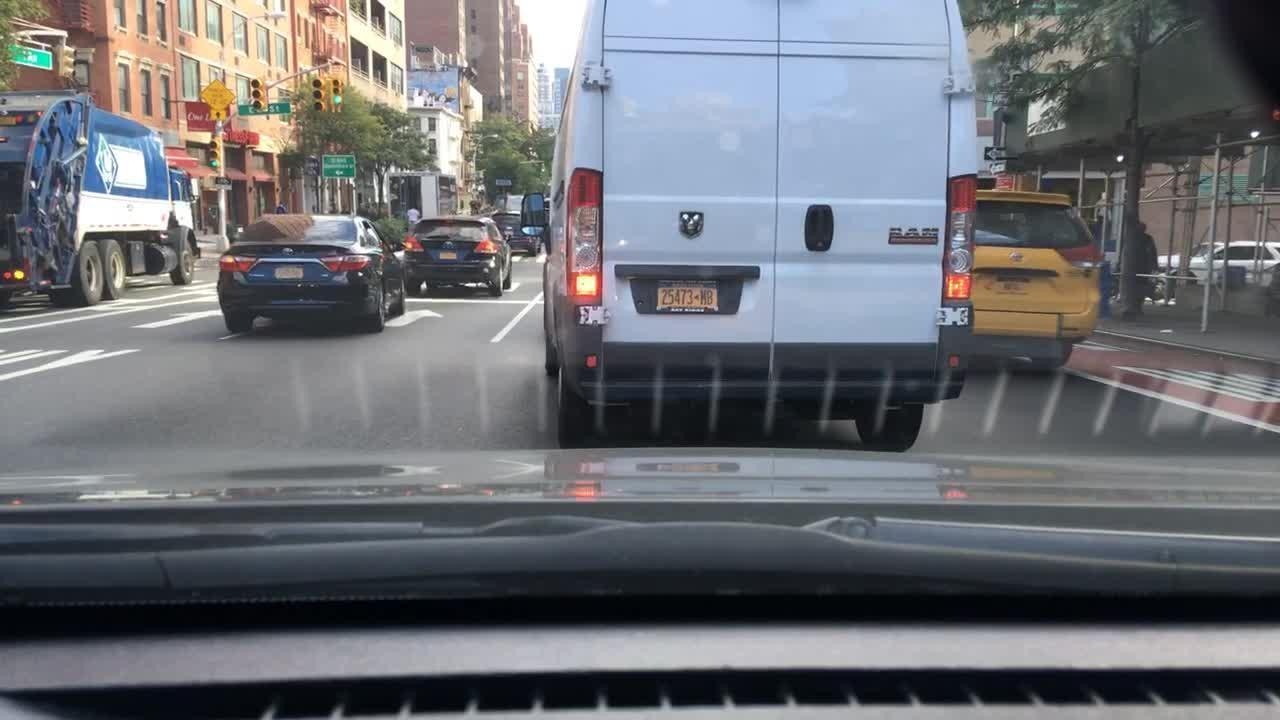ram: (672, 205, 715, 251)
